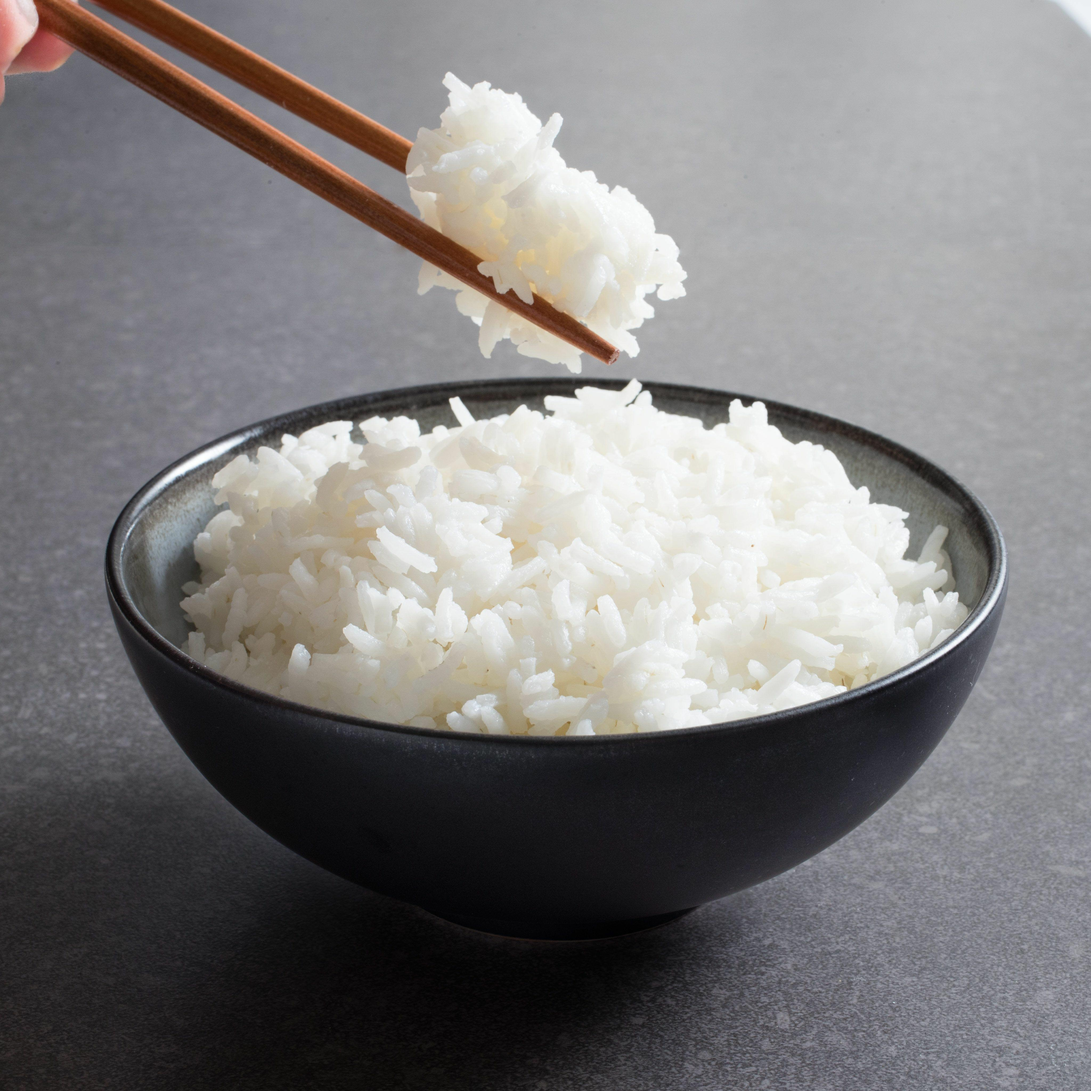WhiteRice: (198, 405, 957, 735), (419, 75, 688, 376)
